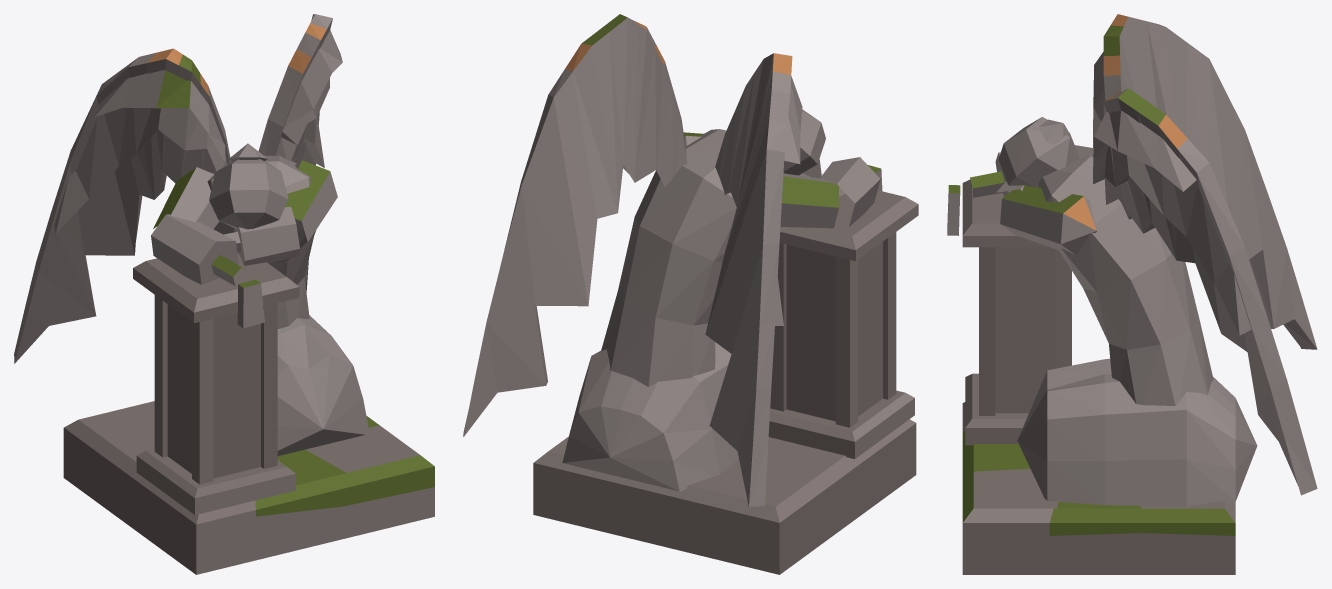
File: weeping-stone-angel-644ce3.glb
3 renders of one model, left to right at view 1: azimuth 30°, elevation 25°; view 2: azimuth 150°, elevation 25°; view 3: azimuth 270°, elevation 25°, orthographic. The views are drawn at different scales.
Parts seen in each view (by area): view 1: weeping-angel-stone; view 2: weeping-angel-stone; view 3: weeping-angel-stone.
Part boxes in pixels (x1,y1,x2,y2): weeping-angel-stone: (14,14,434,574); weeping-angel-stone: (463,14,918,574); weeping-angel-stone: (947,14,1317,574).
Size of the model in its own units: 1.27 by 1.89 by 1.36.
